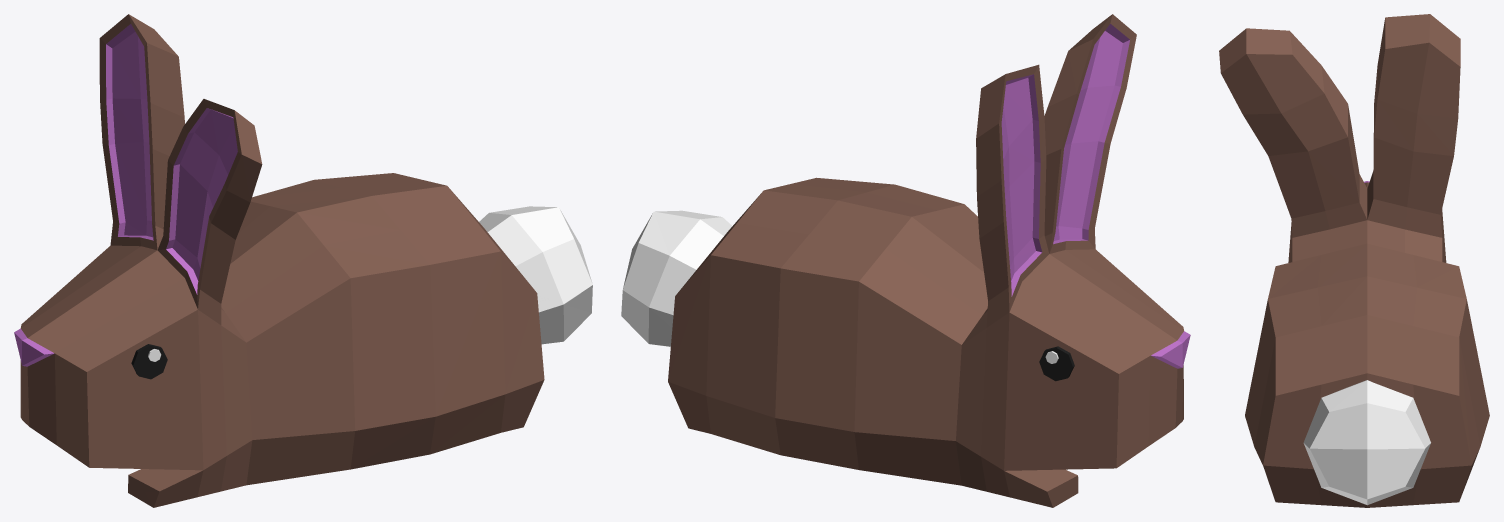
Rendered from rabbit.glb.
3 renders of one model, left to right at view 1: azimuth 30°, elevation 25°; view 2: azimuth 150°, elevation 25°; view 3: azimuth 270°, elevation 25°, orthographic. The views are drawn at different scales.
Parts seen in each view (by area): view 1: node-0; view 2: node-0; view 3: node-0.
Part boxes in pixels (x1=…): node-0: x1=14, y1=14, x2=592, y2=507; node-0: x1=621, y1=14, x2=1190, y2=507; node-0: x1=1219, y1=14, x2=1489, y2=507.
Size of the model in its own units: 26.84 by 19.17 by 13.03.
